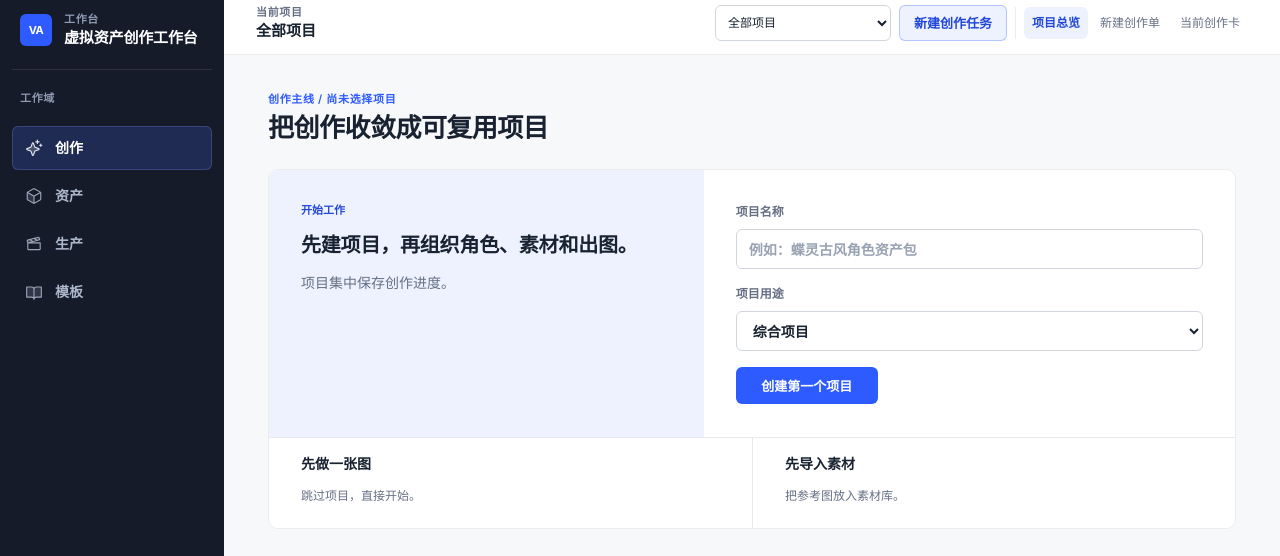
Test: 切换项目会清除旧资产包选择，不能把新项目素材误归到旧包
This screenshot has width=1280, height=556.
Select "甲项目" in the dropdown named "当前项目" at [803, 22], box [715,4,891,40]
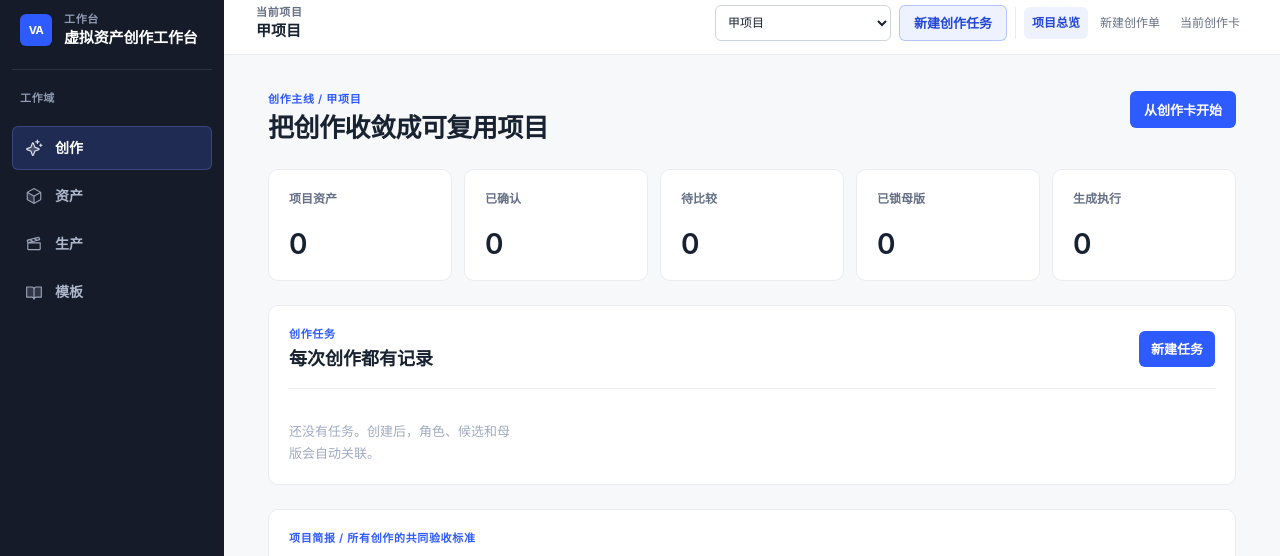
Click the button "资产" at [112, 196], box [12,174,212,218]
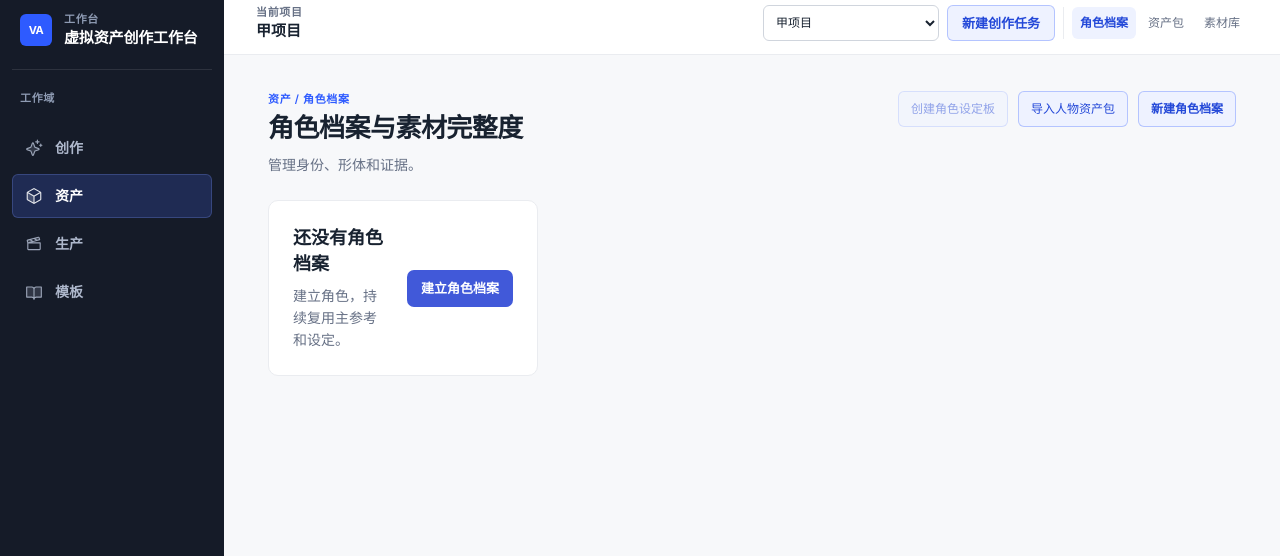
Click the button "资产包" at [1166, 22], box [1140,6,1192,38]
(page scrolled)
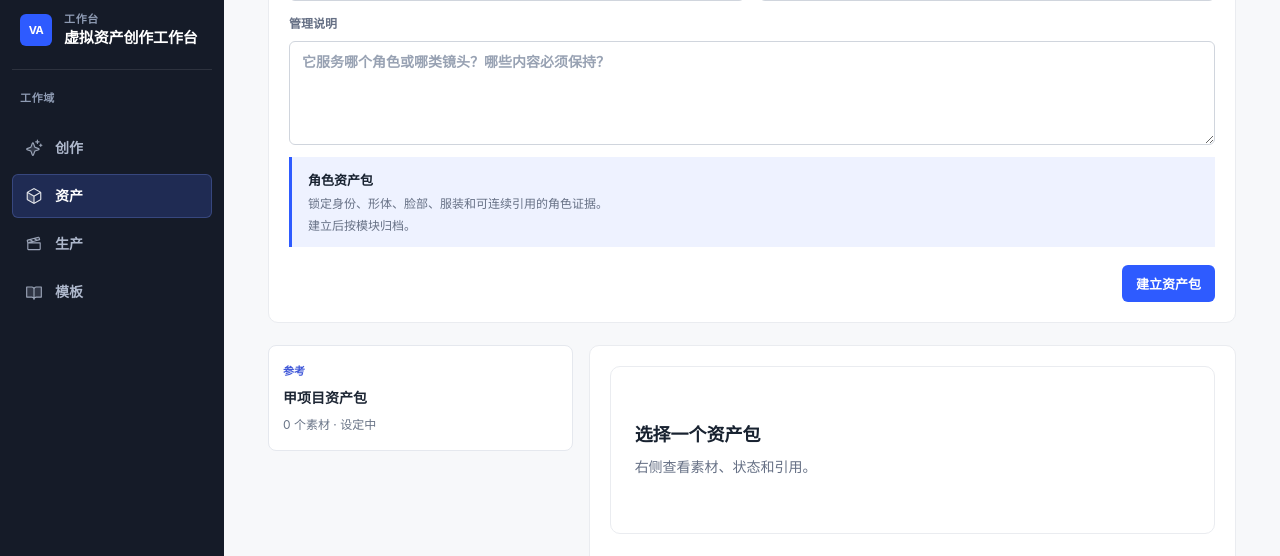
Click the button "参考 甲项目资产包 0 个素材 · 设定中" at [325, 398], box [268,345,573,451]
(page scrolled)
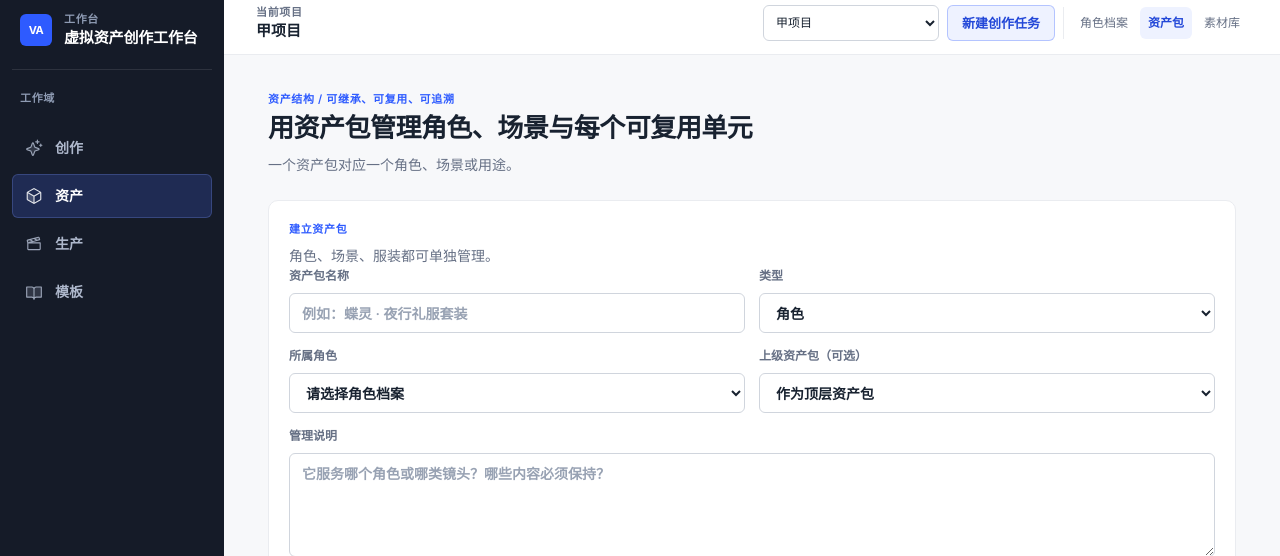
Select "乙项目" in the dropdown named "当前项目" at [851, 22], box [763,4,939,40]
Click the button "素材库" at [1222, 22], box [1196,6,1248,38]
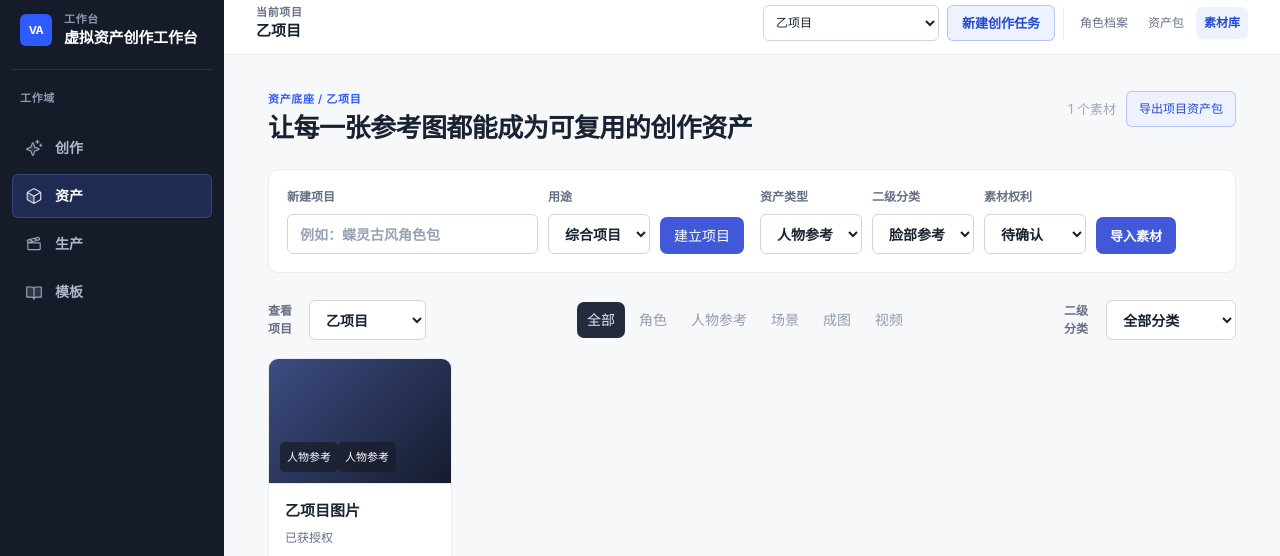
Click the heading "乙项目图片" at [322, 510], box [285,501,360,520]
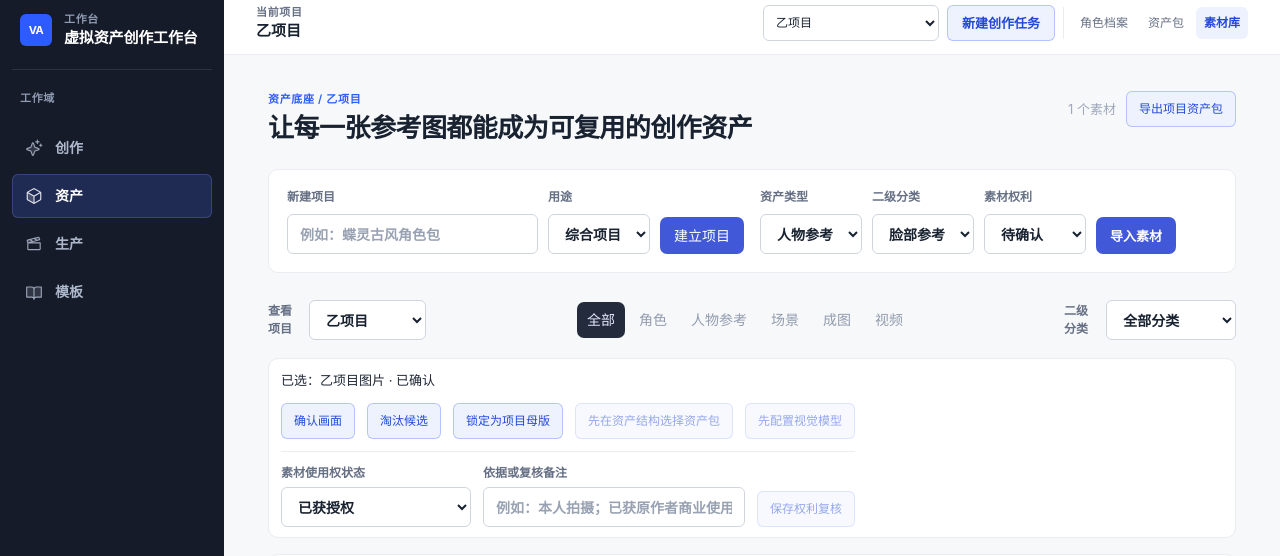
Expected: the button "先在资产结构选择资产包" is disabled, [575,403,733,439]
